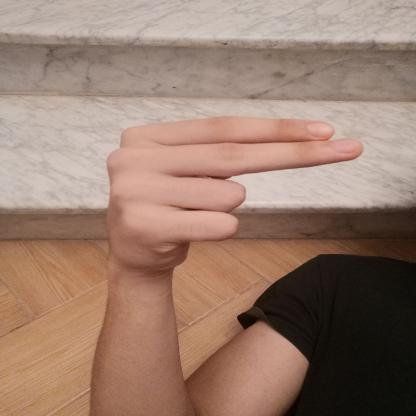AYN: (85, 101, 389, 290)
